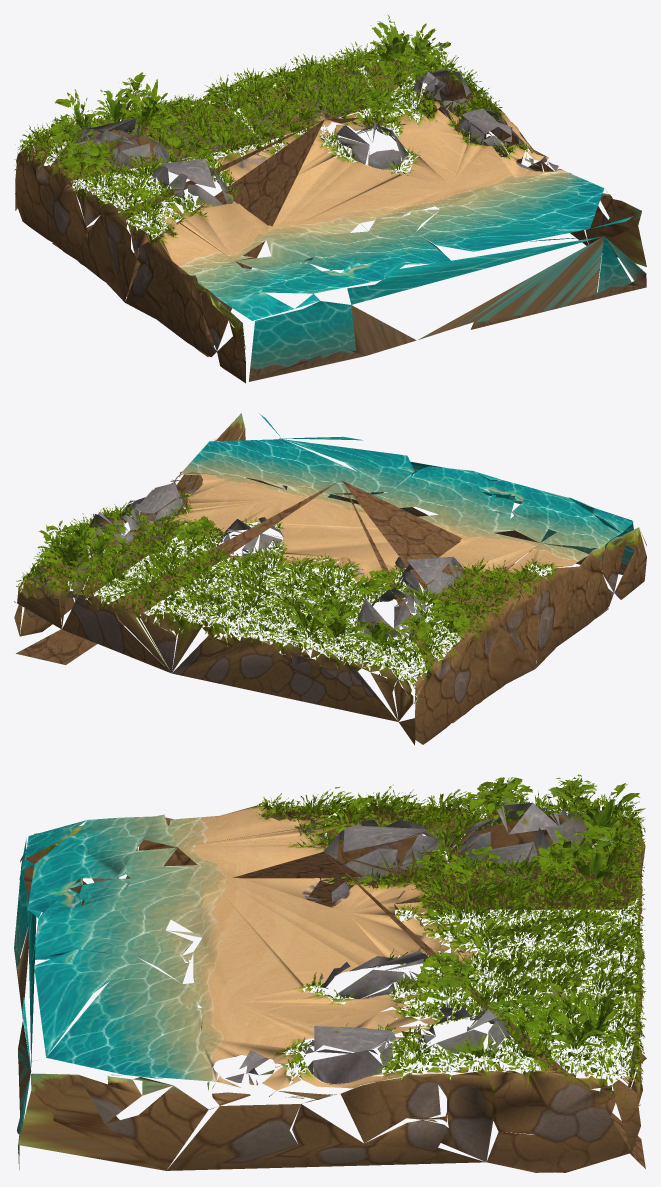
Rendered from matbien_hq.glb.
The picture shows the model from 3 angles, top to bottom: view 1: azimuth 30°, elevation 25°; view 2: azimuth 150°, elevation 25°; view 3: azimuth 270°, elevation 25°; orthographic projection. The views are drawn at different scales.
Parts seen in each view (by area): view 1: Mesh_0; view 2: Mesh_0; view 3: Mesh_0.
Boxes of the visible parts, <box> form: Mesh_0: <box>14,14,646,383</box>; Mesh_0: <box>14,413,646,745</box>; Mesh_0: <box>14,774,646,1172</box>.
Bounding box in the file's own units: 1.92 × 0.6189 × 1.91.
Materials: 1 (1 with a texture image).
